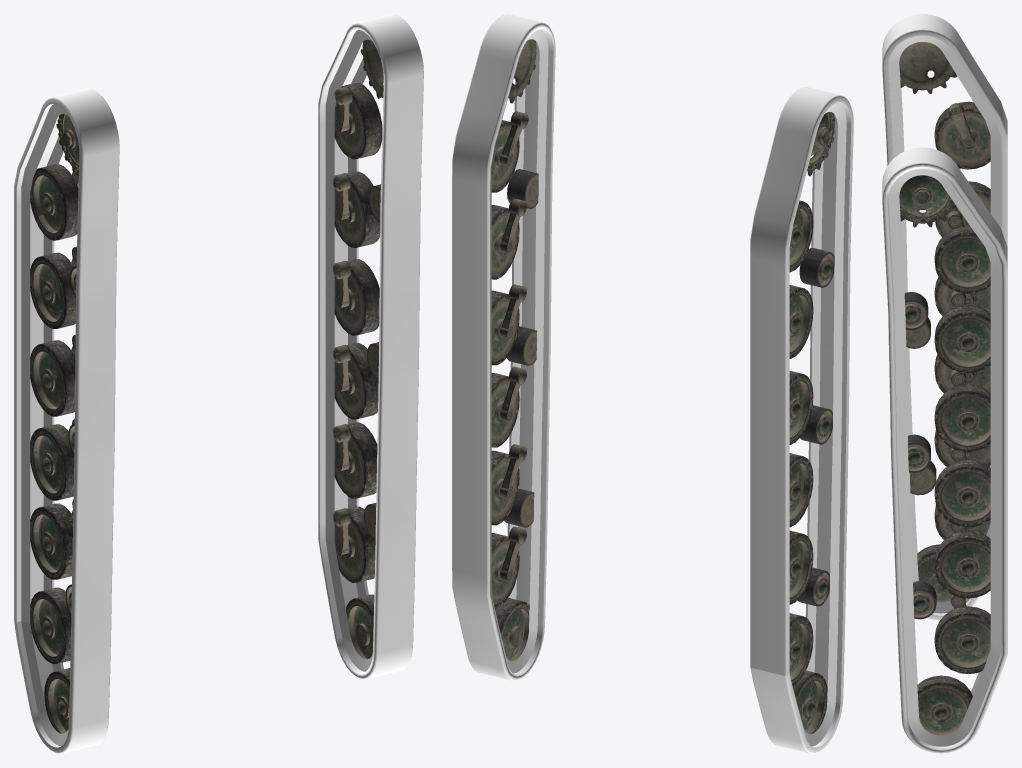
File: Chassis.glb
The picture shows the model from 3 angles, left to right: view 1: azimuth 30°, elevation 25°; view 2: azimuth 150°, elevation 25°; view 3: azimuth 270°, elevation 25°; orthographic projection. The views are drawn at different scales.
Visible parts, largest first — view 1: set_0_group_0, set_1_group_0, set_3_group_0, set_2_group_0; view 2: set_0_group_0, set_1_group_0, set_3_group_0, set_2_group_0; view 3: set_3_group_0, set_1_group_0, set_2_group_0, set_0_group_0.
Part boxes in pixels (bbox=[...]): set_0_group_0: bbox=[14, 88, 119, 753]; set_1_group_0: bbox=[318, 14, 423, 679]; set_3_group_0: bbox=[332, 39, 383, 659]; set_2_group_0: bbox=[30, 114, 79, 733]; set_0_group_0: bbox=[750, 86, 853, 753]; set_1_group_0: bbox=[452, 14, 555, 680]; set_3_group_0: bbox=[491, 39, 538, 661]; set_2_group_0: bbox=[789, 112, 835, 734]; set_3_group_0: bbox=[899, 175, 990, 735]; set_1_group_0: bbox=[882, 147, 1007, 753]; set_2_group_0: bbox=[899, 42, 990, 602]; set_0_group_0: bbox=[882, 14, 1007, 620].
Size of the model in its own units: 2.72 by 5.01 by 0.9649.
4 materials, 2 textured.
